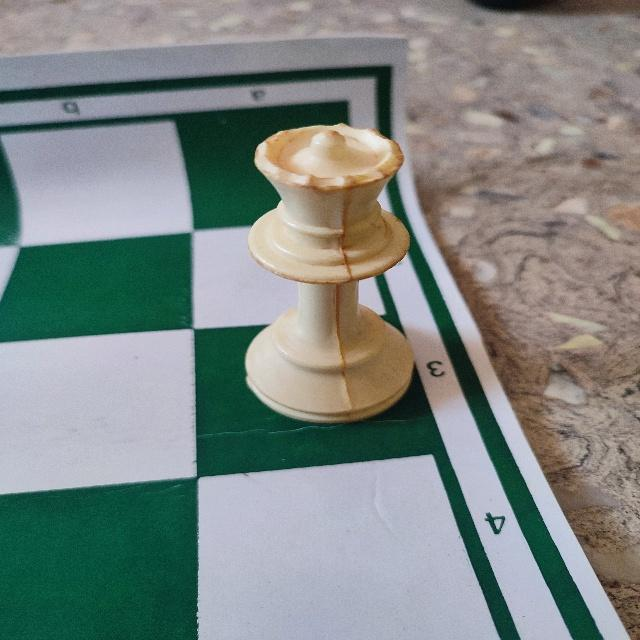Queen: (233, 117, 424, 431)
